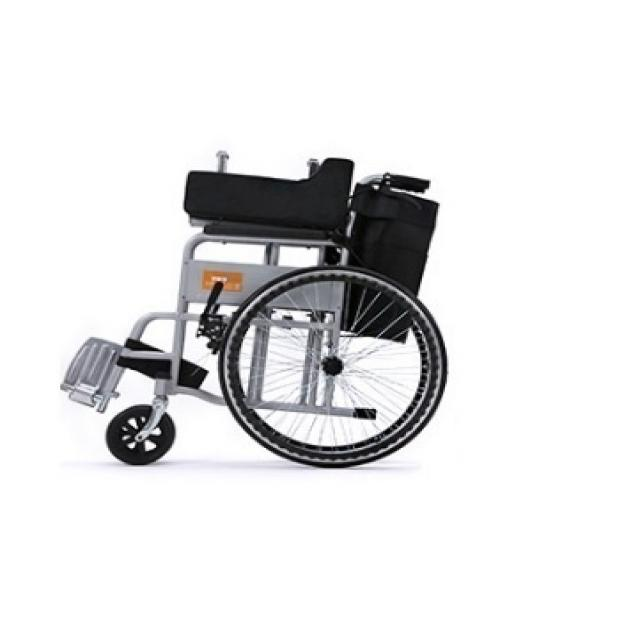wheelchair: (46, 137, 477, 505)
